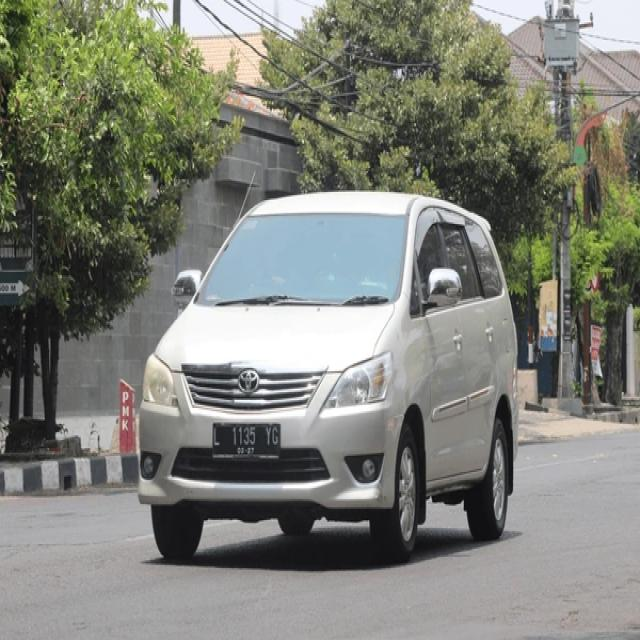toyota: (237, 370, 262, 394)
